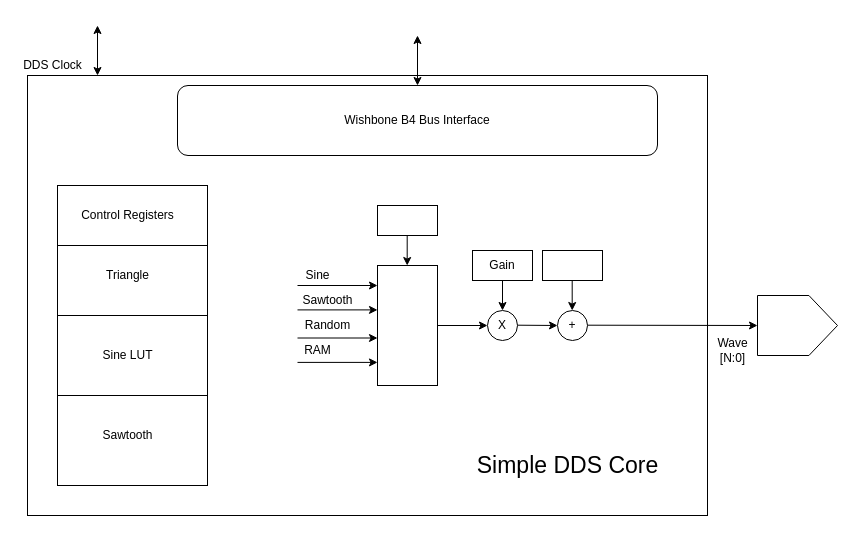
The diagram is 855 pixels wide and 533 high, and some of its shapes have lost their labels. Each missing label, with the box of its shape:
DAC: (756, 294, 838, 356)
DDS: (376, 264, 438, 386)
Offset: (542, 250, 602, 280)
Tuning Word: (376, 204, 438, 236)
